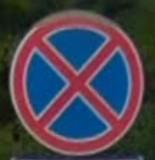No Parking: (9, 9, 147, 159)
